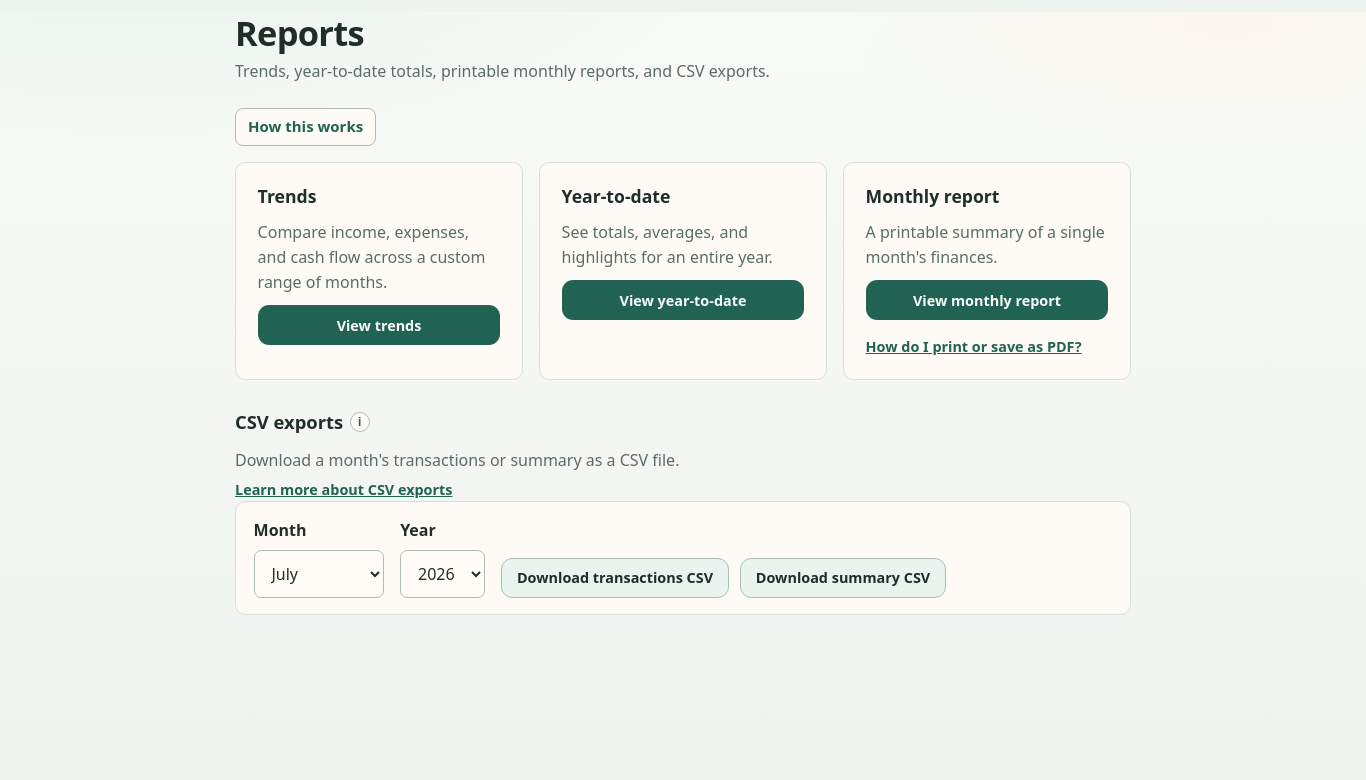
Test: ReportsPage › downloads a summary CSV and shows a success message
Click the button "Download summary CSV".
click(843, 578)  # box [740,558,946,598]
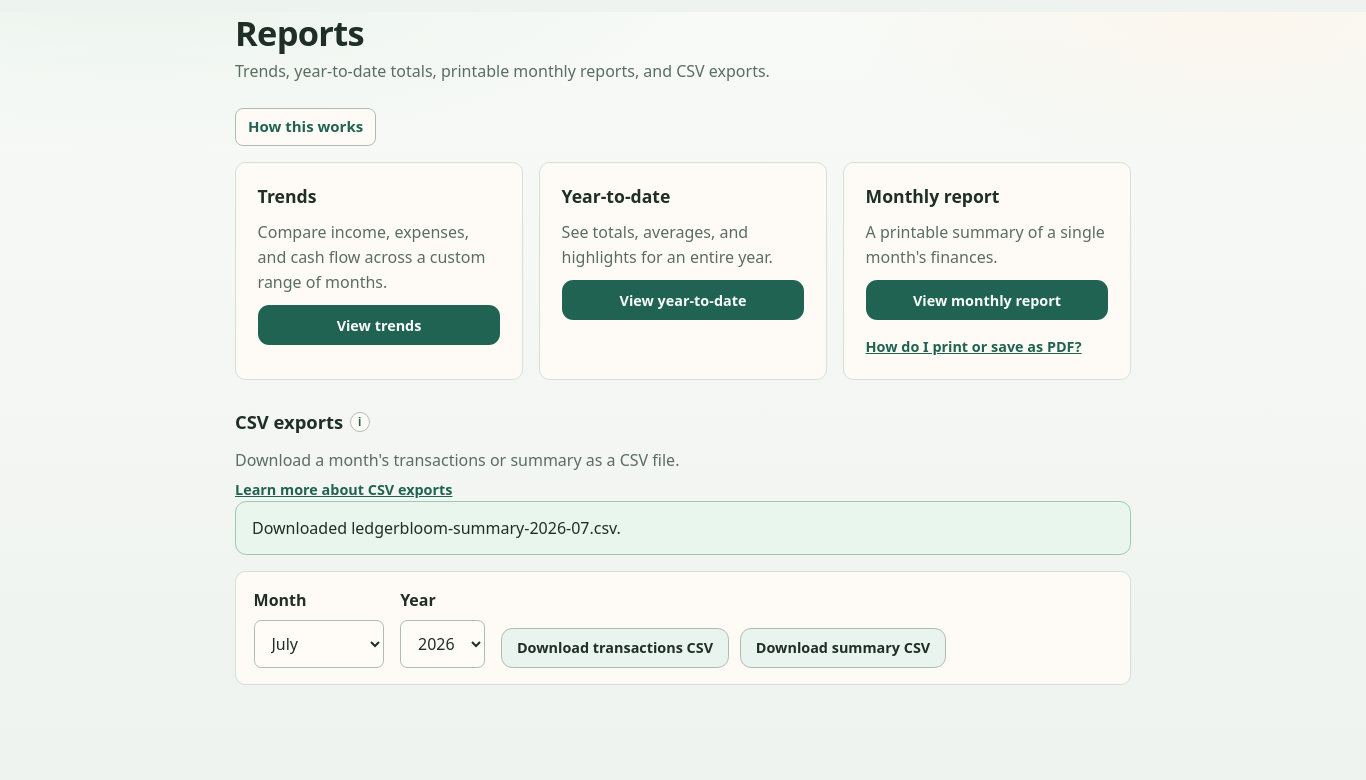
Check: the text "Downloaded ledgerbloom-summary-2026-07.csv." is shown, box [235,501,1131,555]
